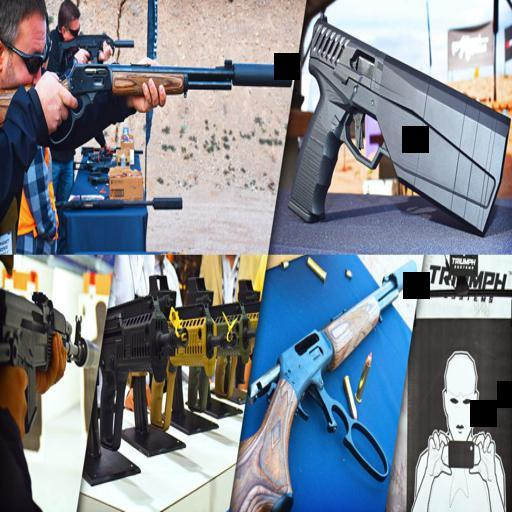Handgun: (287, 11, 509, 236)
